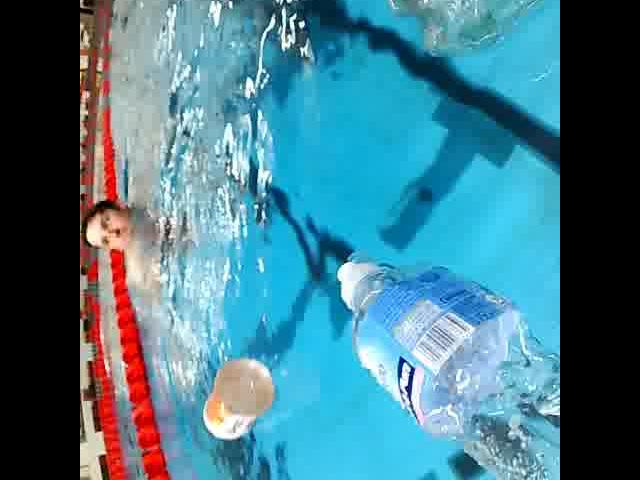Bottle: (326, 249, 559, 480), (370, 0, 560, 65), (198, 344, 280, 452)
